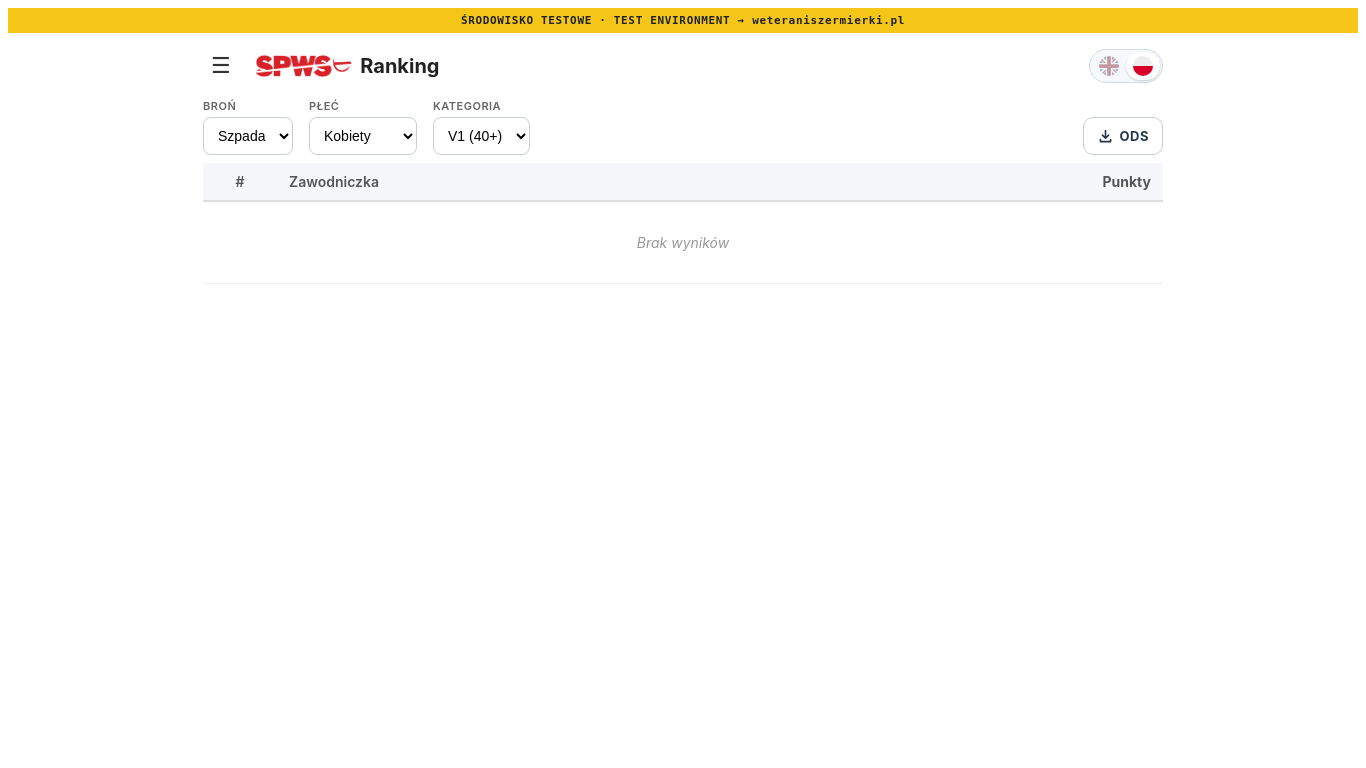
Test: App Shell (T8.4) › updates header title when view changes
The image size is (1366, 768).
Check: the heading with class "app-title" reads "Ranking", box [360, 54, 440, 78]
Check: the picture with class "header-logo" is shown, box [255, 55, 352, 77]
Click the button with class "hamburger-btn".
click(221, 66)  # box [203, 51, 239, 81]
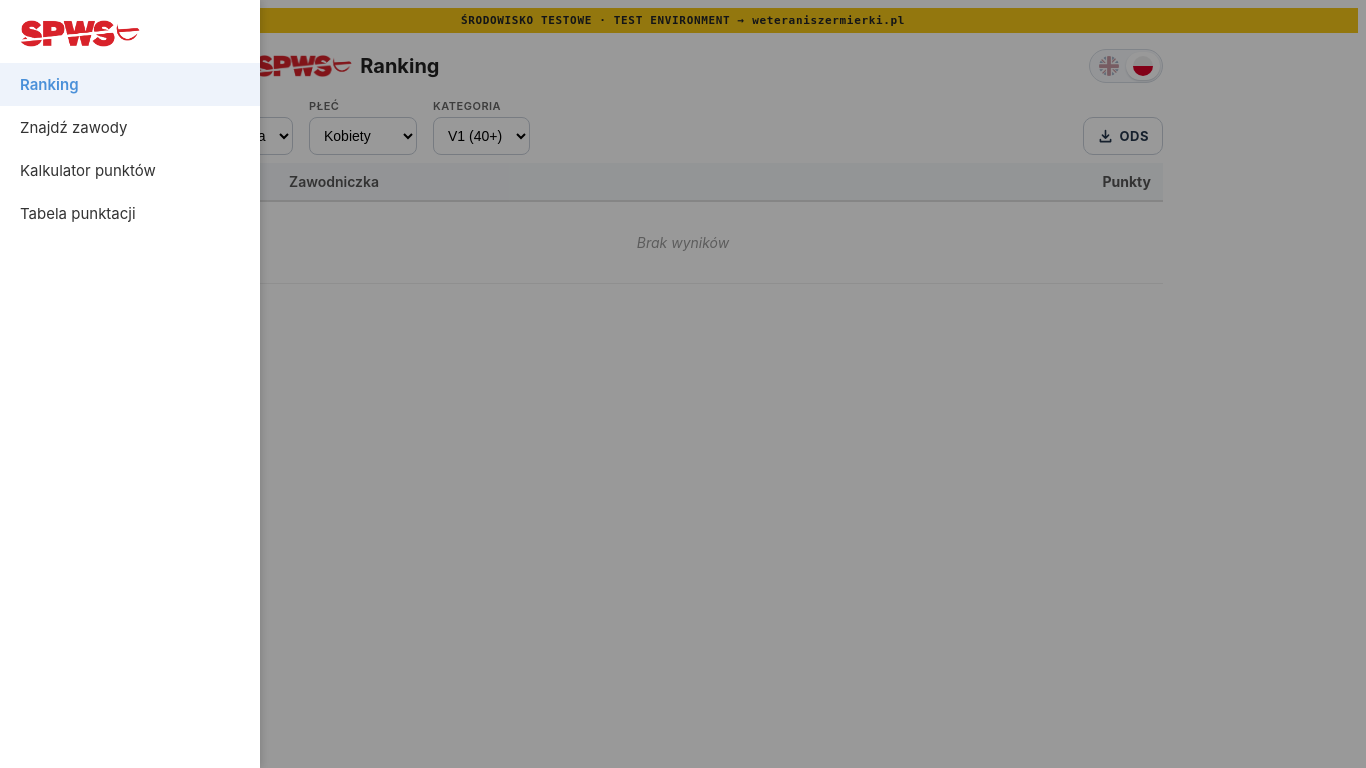
Click the button with class "nav-item" showing "Znajdź zawody".
click(130, 128)  # box [0, 106, 260, 149]
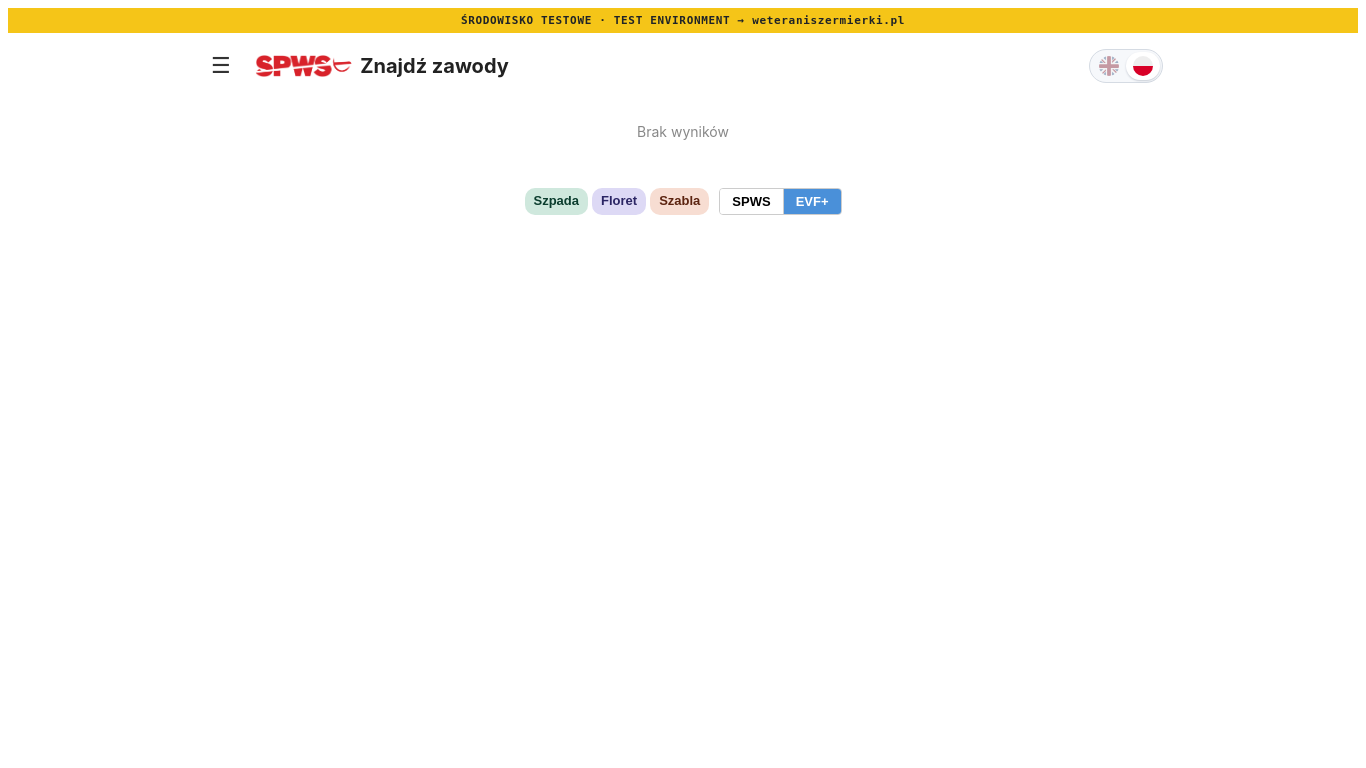
Check: the picture with class "header-logo" is shown, box [255, 55, 352, 77]
Check: the text with class "app-title-fit" reads "Znajdź zawody", box [360, 54, 509, 78]
